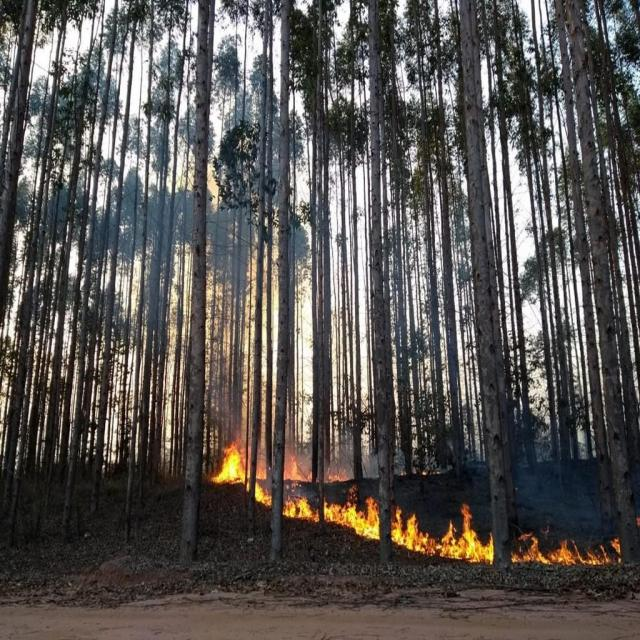fire: (205, 442, 498, 559)
